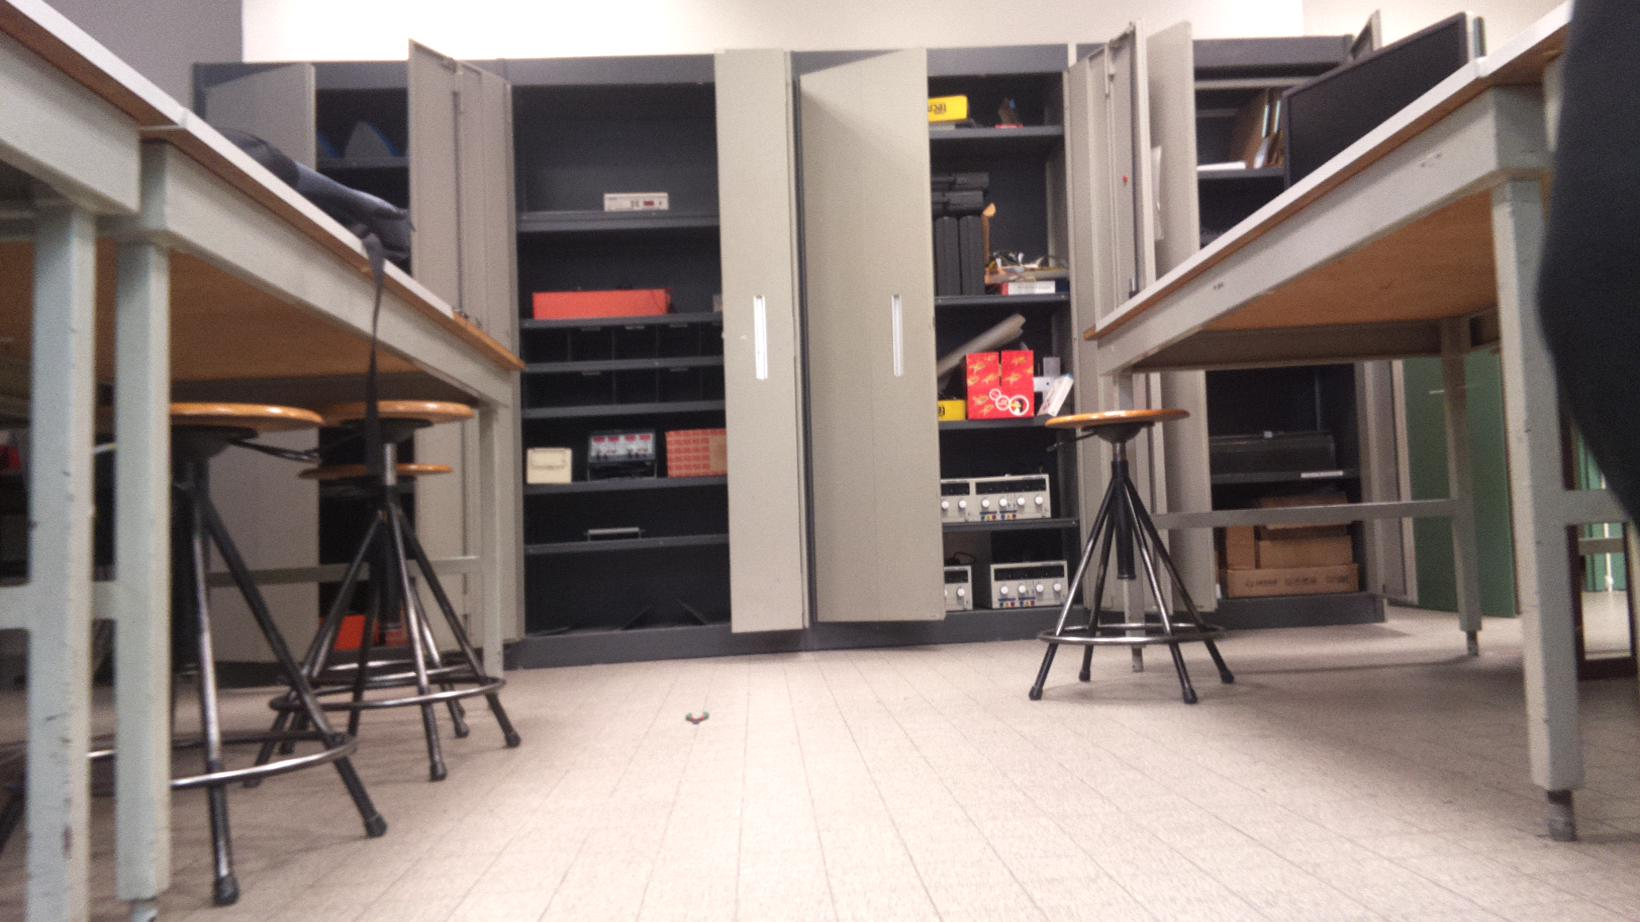small: (681, 706, 714, 729)
